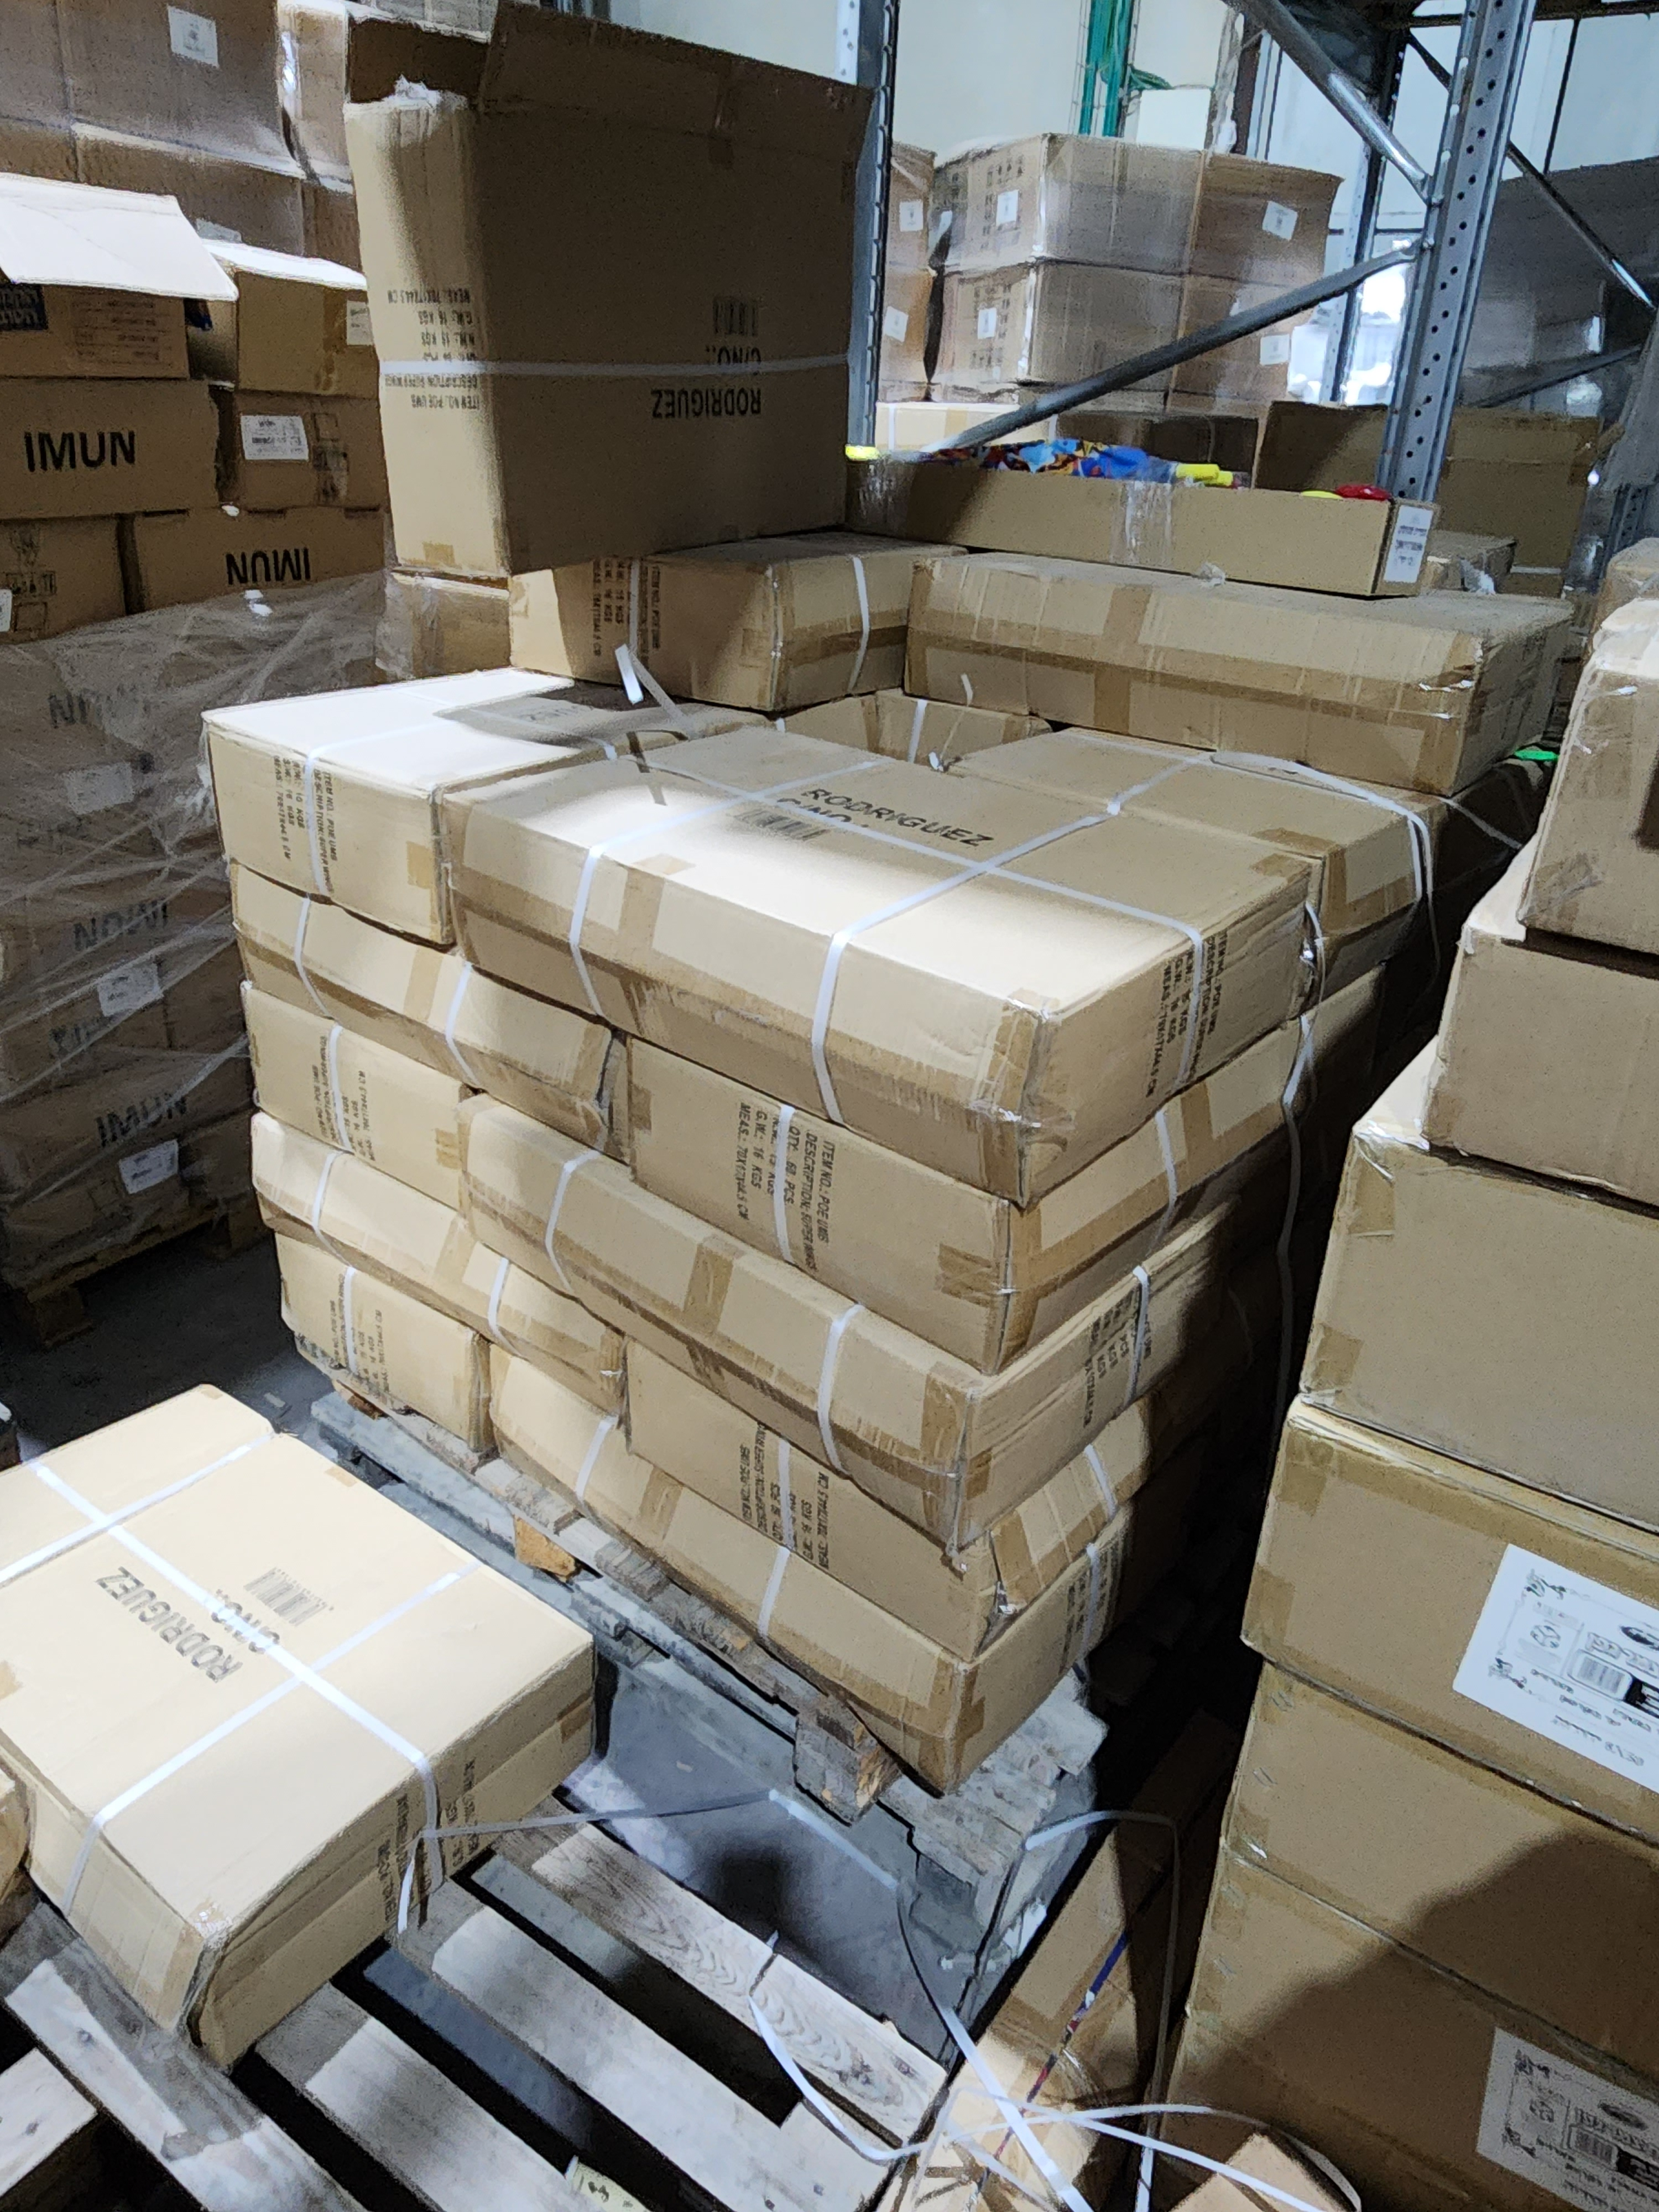box: (545, 1083, 1157, 1763), (28, 1369, 610, 2040), (467, 705, 1331, 1141), (310, 52, 873, 578), (913, 528, 1563, 791), (929, 105, 1358, 406), (179, 672, 467, 941)
